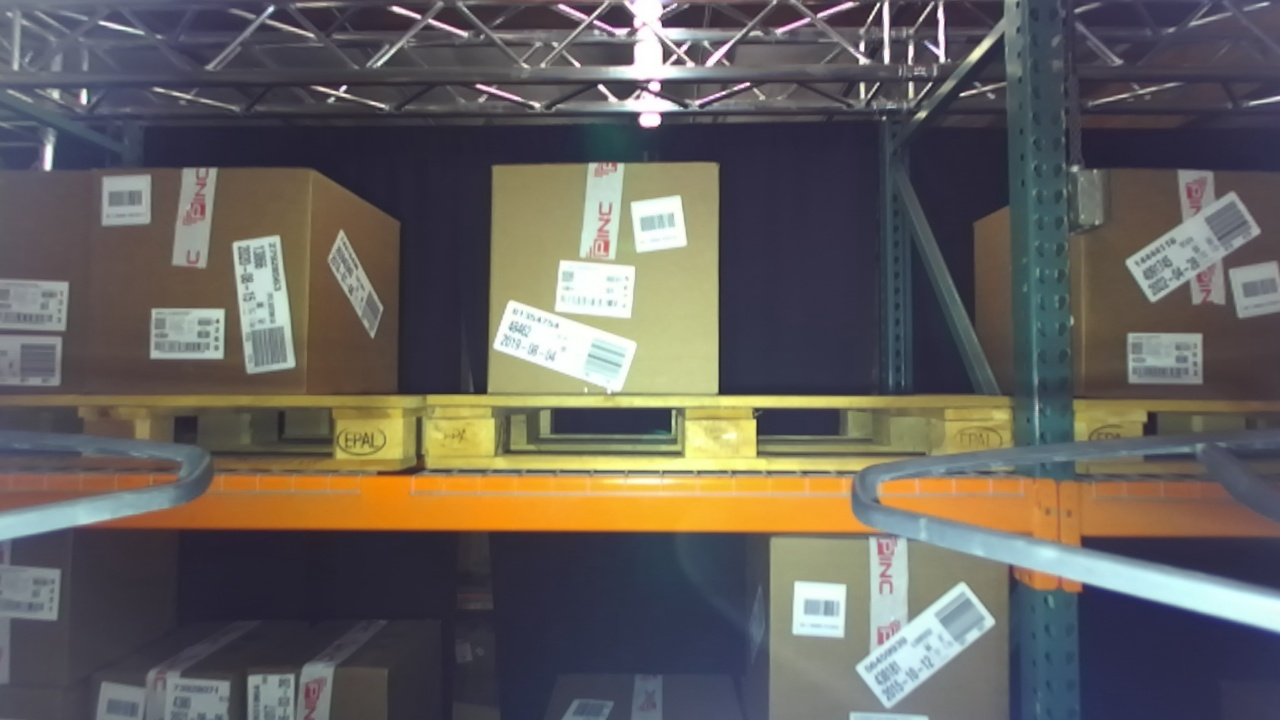box: (65, 141, 343, 400), (465, 139, 735, 402), (743, 509, 1029, 720), (1072, 146, 1280, 411)
